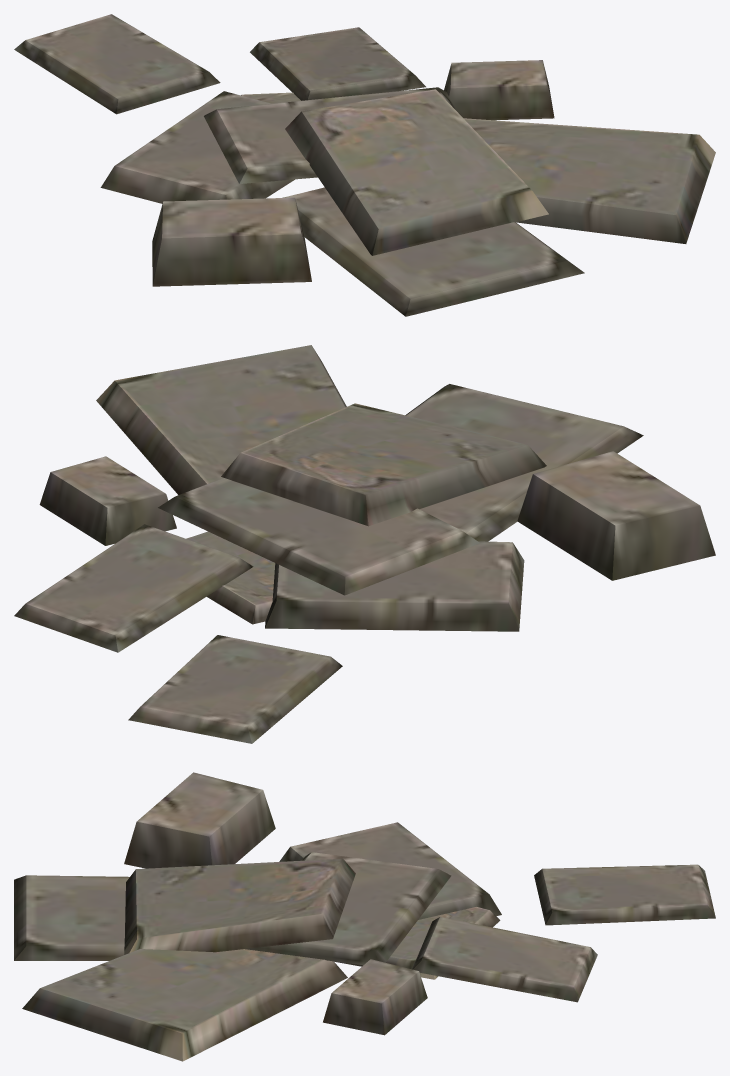
File: zhuan05.FBX
3 renders of one model, top to bottom at view 1: azimuth 30°, elevation 25°; view 2: azimuth 150°, elevation 25°; view 3: azimuth 270°, elevation 25°, orthographic. The views are drawn at different scales.
Parts seen in each view (by area): view 1: Box046; view 2: Box046; view 3: Box046.
Part boxes in pixels (x1,y1,x2,y2): Box046: [14, 14, 715, 316]; Box046: [14, 345, 715, 743]; Box046: [14, 772, 715, 1061].
Bounding box in the file's own units: 198 × 20.99 × 231.
